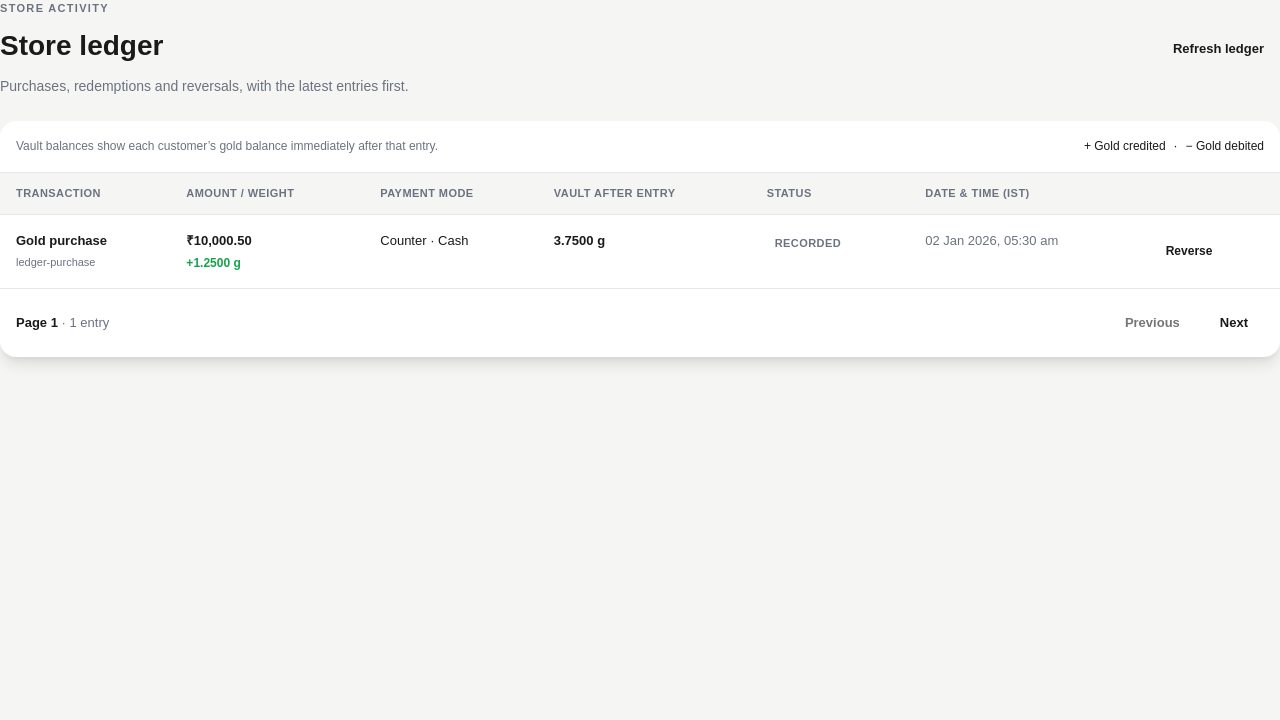
Test: StoreLedgerPanel › reversing an entry › reverses the entry, closes the dialog and confirms with a toast
The image size is (1280, 720).
Click the button with aria-label "Reverse ledger entry ledger-purchase". click: (1189,251)
box: [1154, 231, 1224, 271]
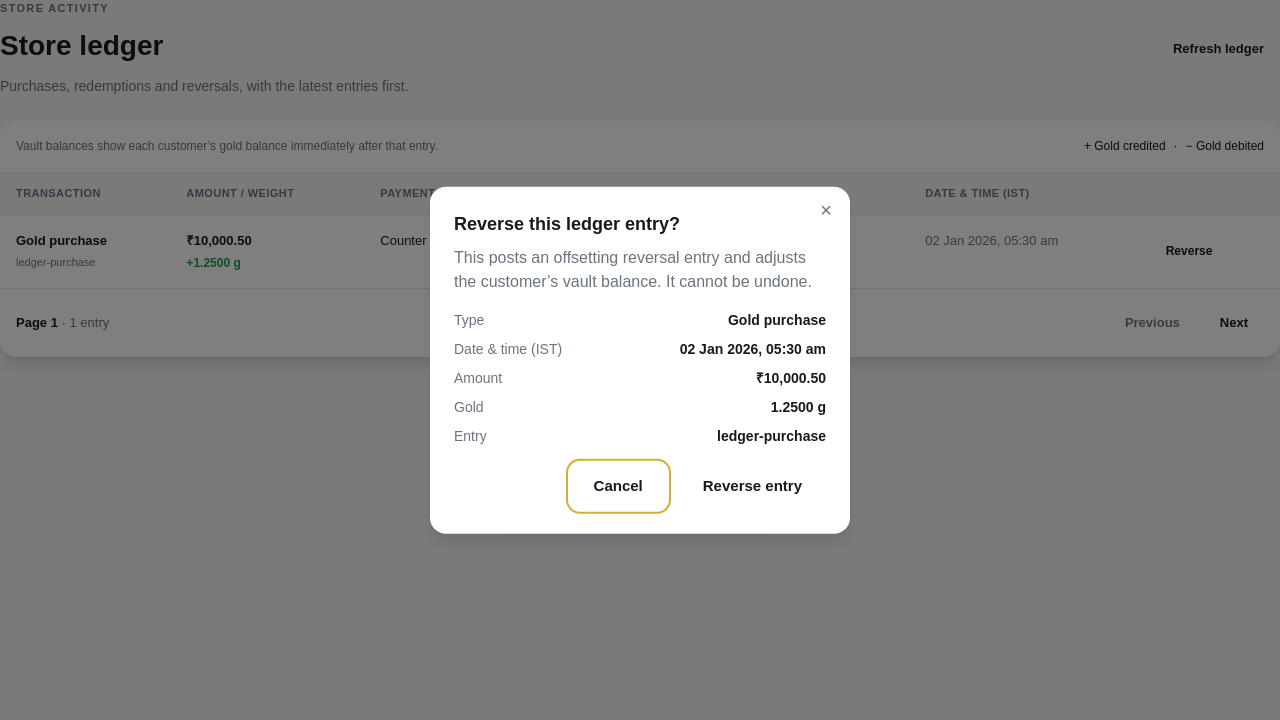
Click the button "Reverse entry". click: (752,486)
box: [679, 463, 826, 509]
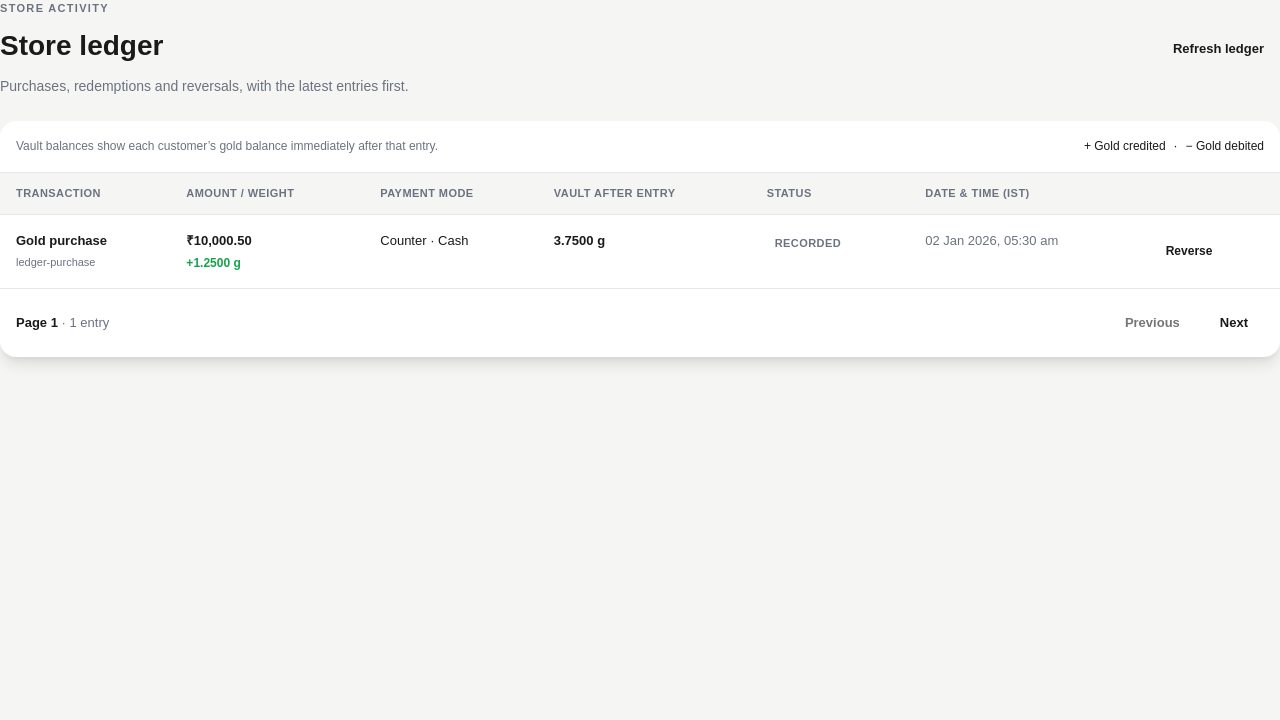
Expected: the text "ledger-purchase" is shown, [16, 256, 96, 268]
Now the dialog is gone
